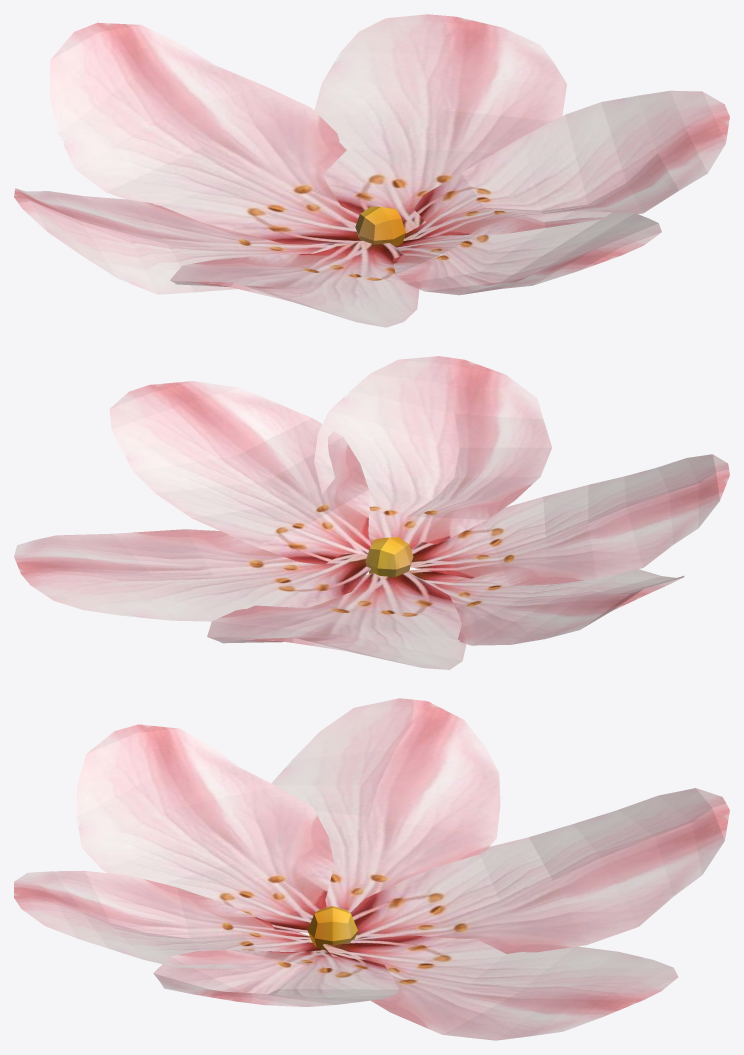
File: flower.fbx
3 renders of one model, top to bottom at view 1: azimuth 30°, elevation 25°; view 2: azimuth 150°, elevation 25°; view 3: azimuth 270°, elevation 25°, orthographic. The views are drawn at different scales.
Parts seen in each view (by area): view 1: Plane.023; view 2: Plane.023; view 3: Plane.023.
Part boxes in pixels (left/top/right/bottom): Plane.023: left=14, top=14, right=729, bottom=327; Plane.023: left=14, top=356, right=729, bottom=669; Plane.023: left=14, top=698, right=729, bottom=1040.
Size of the model in its own units: 12.13 by 1.9 by 11.96.
